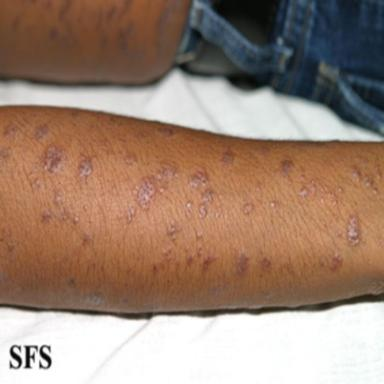lichen: (153, 0, 180, 58), (97, 4, 117, 45), (133, 176, 157, 209), (43, 145, 66, 174), (118, 23, 133, 58), (189, 165, 209, 188), (78, 152, 96, 176), (155, 161, 177, 180), (347, 215, 360, 246), (59, 0, 74, 21), (236, 252, 249, 276), (167, 219, 181, 241), (119, 0, 134, 18), (4, 121, 18, 140), (84, 292, 103, 306), (221, 147, 234, 164), (281, 158, 293, 176), (331, 252, 343, 270), (125, 205, 136, 224), (55, 208, 71, 221), (261, 257, 271, 277), (162, 244, 173, 262), (203, 255, 217, 269), (35, 124, 48, 139), (203, 188, 215, 204), (5, 231, 13, 252), (125, 152, 137, 166), (185, 244, 193, 265), (47, 27, 59, 40), (0, 145, 11, 159), (157, 128, 174, 137), (11, 15, 21, 30), (83, 229, 92, 245), (67, 276, 78, 289), (352, 166, 361, 181), (242, 202, 253, 214), (42, 210, 52, 223), (299, 185, 308, 198), (137, 131, 150, 139), (199, 204, 206, 218), (375, 165, 382, 179), (365, 175, 373, 187), (197, 242, 203, 258), (54, 192, 61, 204), (261, 145, 269, 154), (196, 230, 203, 239), (46, 0, 52, 10), (73, 214, 79, 224), (270, 201, 277, 208), (186, 201, 192, 209), (373, 187, 378, 194)
